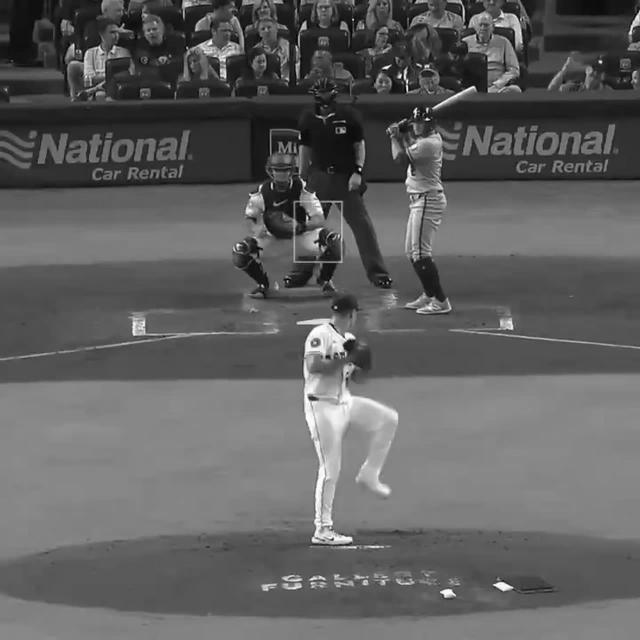base: (296, 314, 336, 326)
baseball_glove: (266, 210, 300, 238), (346, 338, 372, 373)
bat: (403, 84, 479, 130)
shoe: (353, 476, 393, 501), (307, 529, 356, 548), (417, 299, 451, 315), (320, 278, 340, 295), (403, 298, 430, 309), (251, 285, 272, 298)
